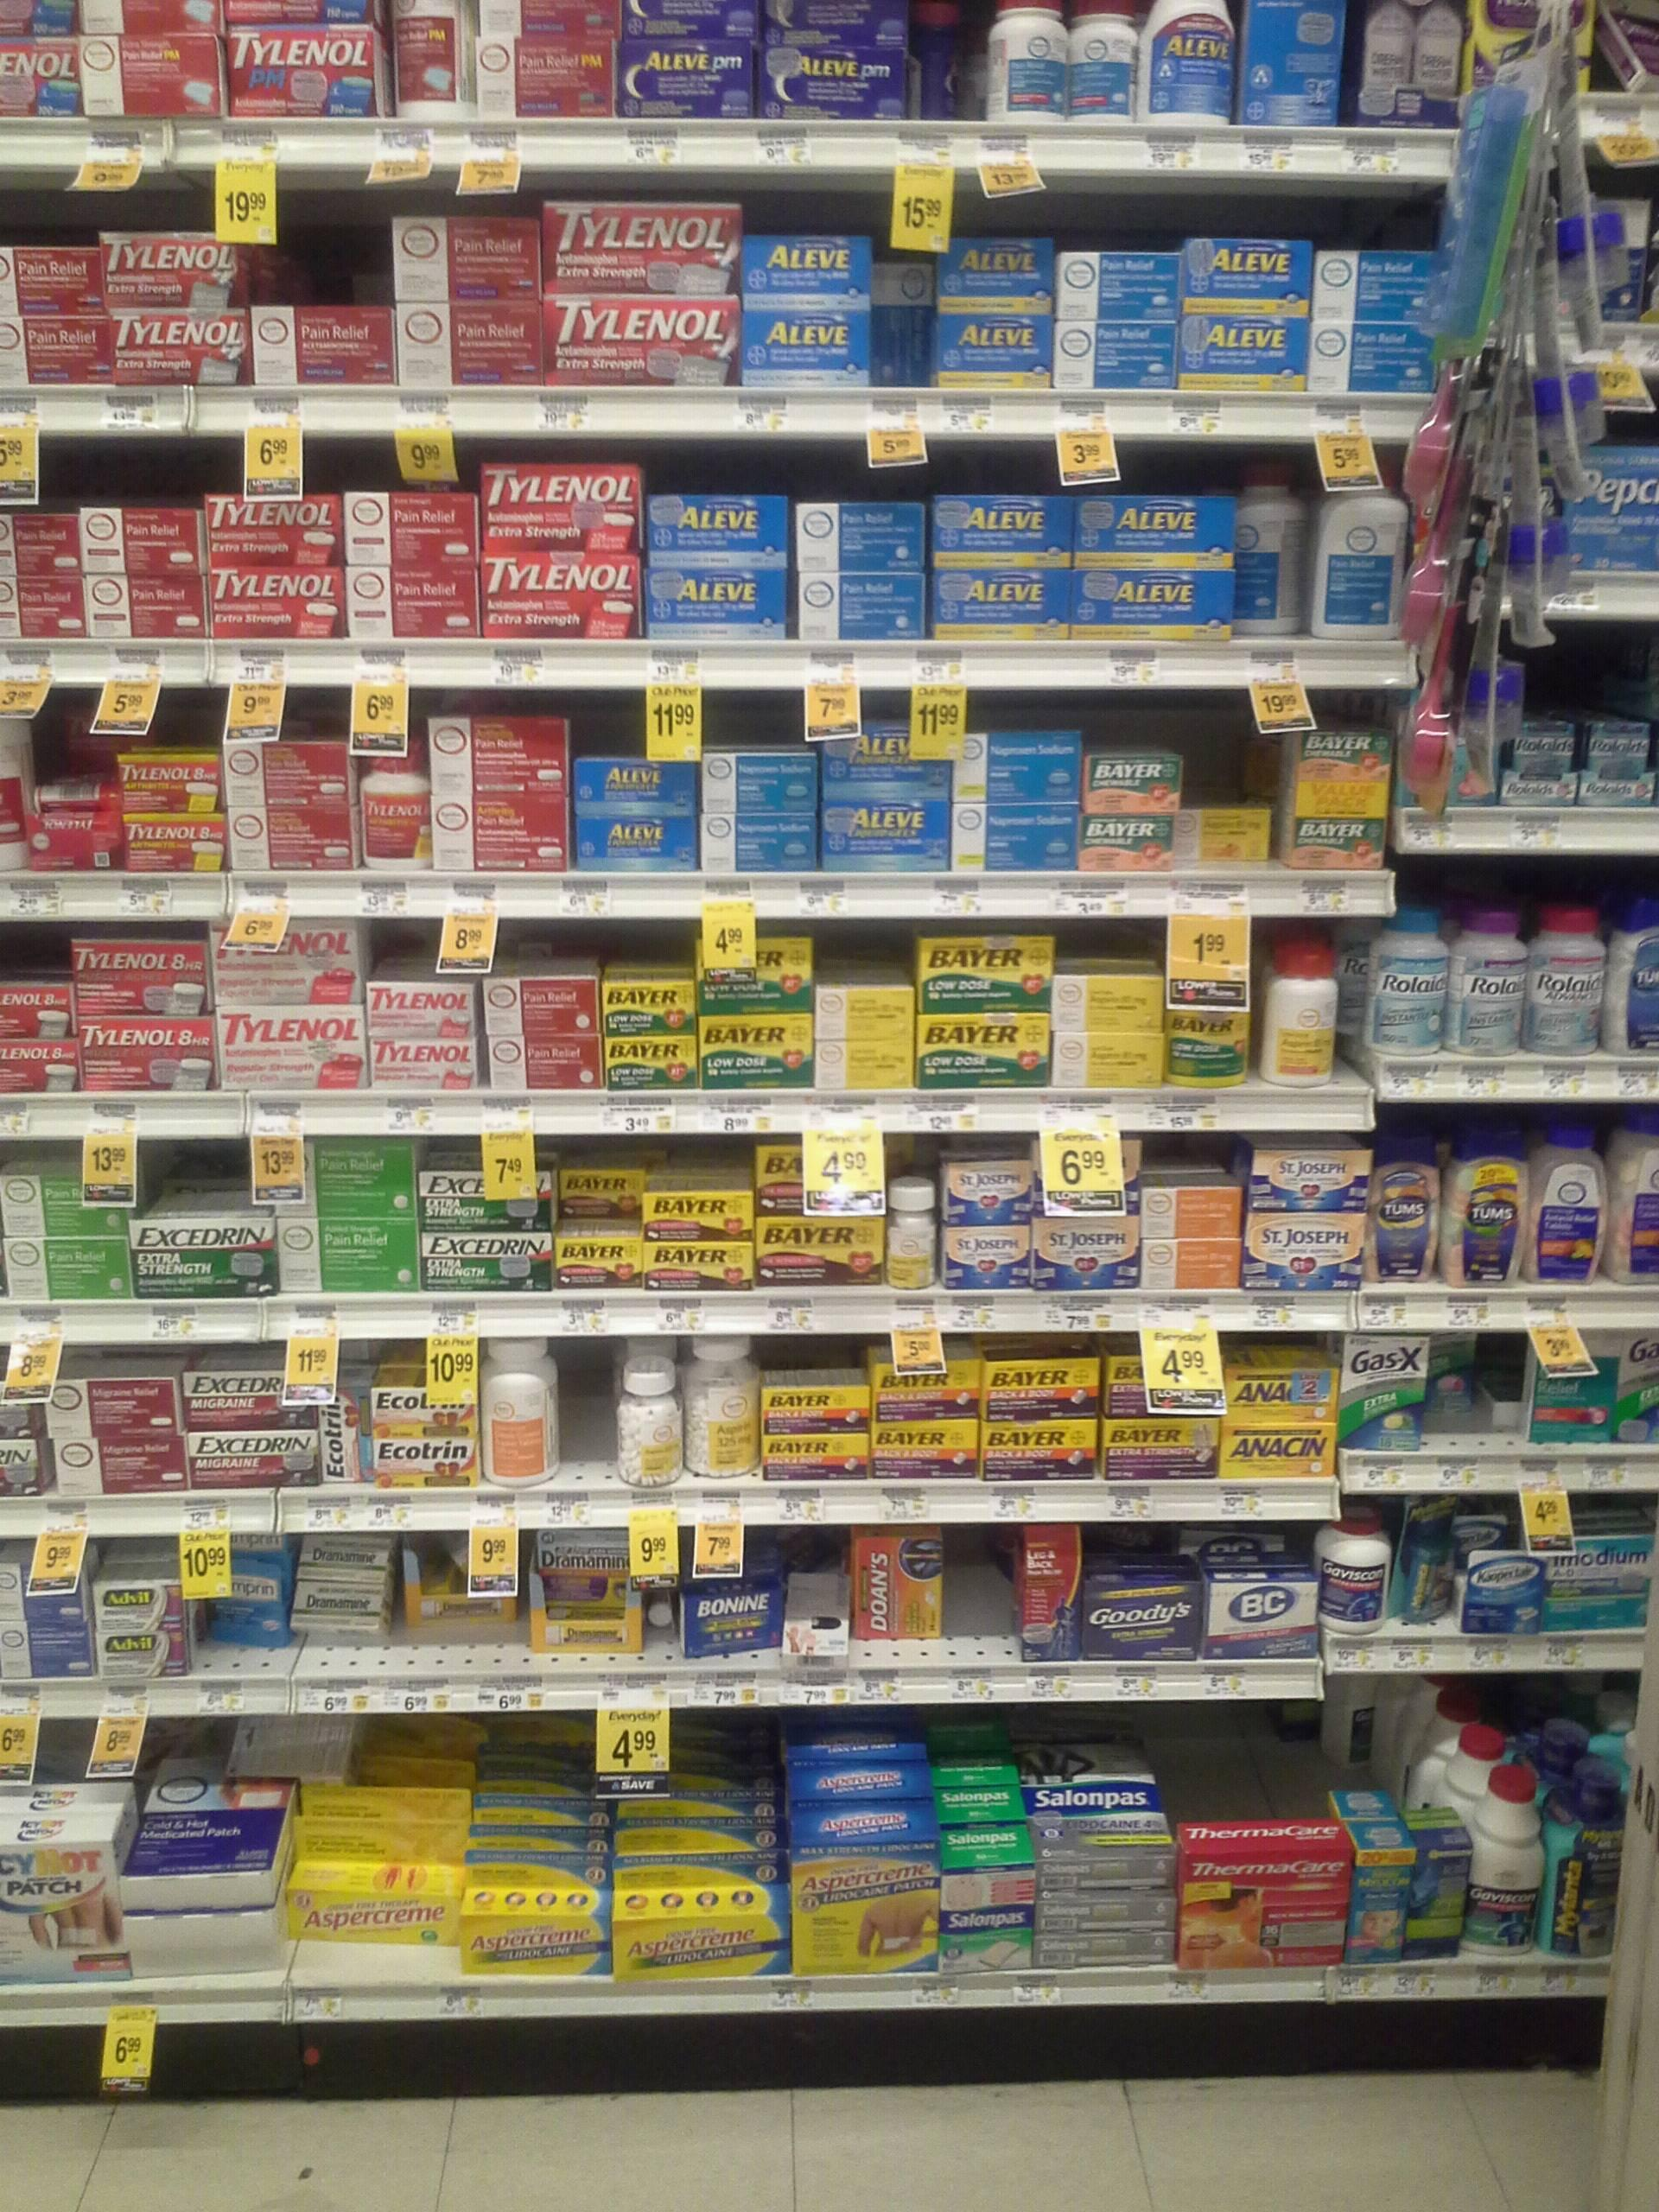empty: (1173, 1702, 1328, 1817), (938, 1527, 1025, 1656), (242, 226, 389, 301), (558, 1345, 624, 1489), (920, 0, 990, 120)
